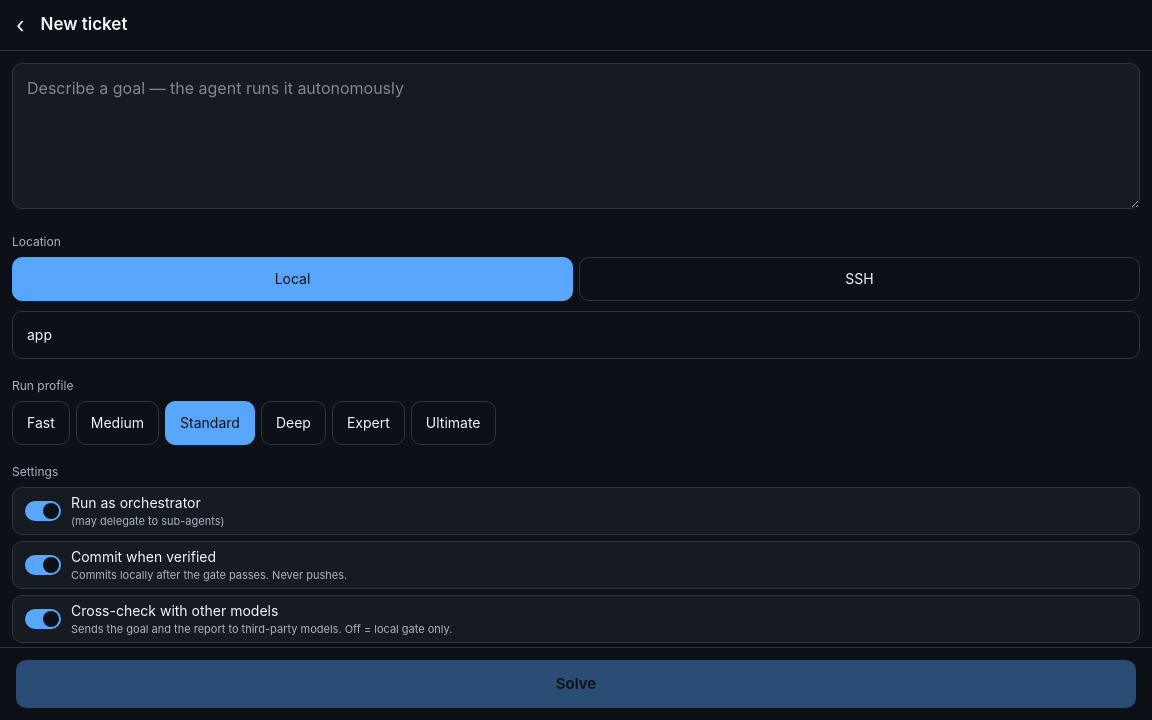
MobileTicketCompose › shows the server error instead of failing silently
The width and height of the screenshot is (1152, 720).
Type "작업" into the text box with placeholder "Describe a goal — the agent runs it autonomously" at point(576, 136), box top-left (12, 62), bottom-right (1140, 208)
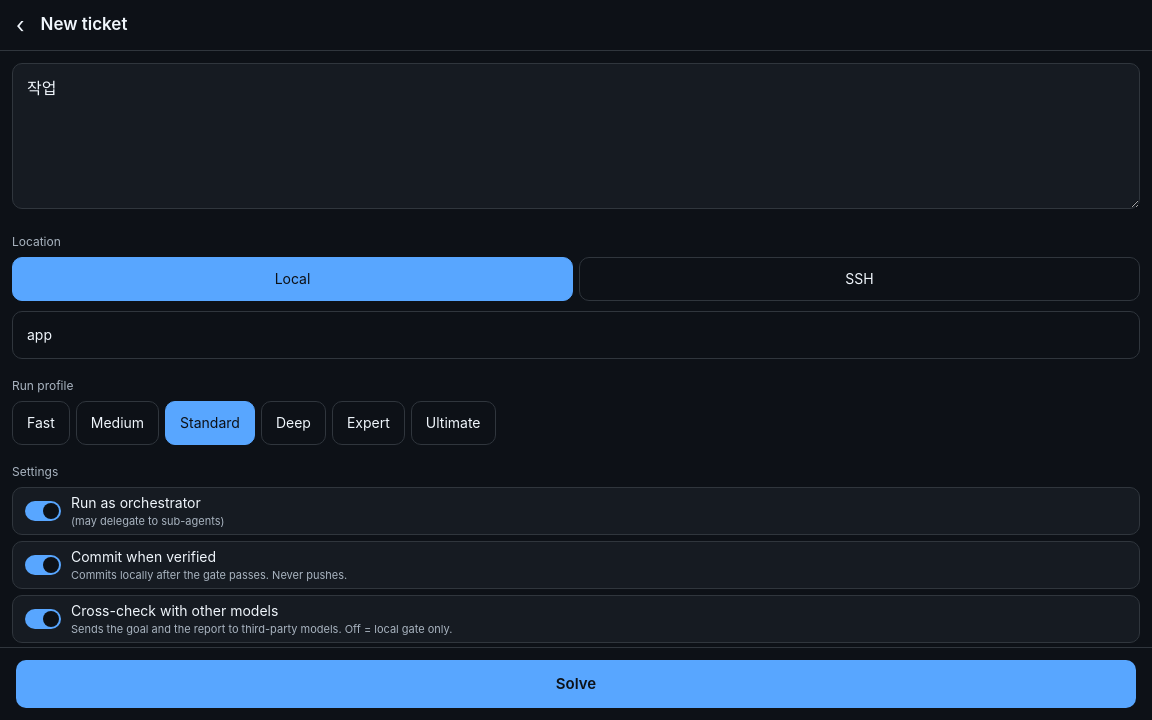
Click the button "Solve" at point(576, 684), box top-left (16, 660), bottom-right (1136, 708)
(page scrolled)
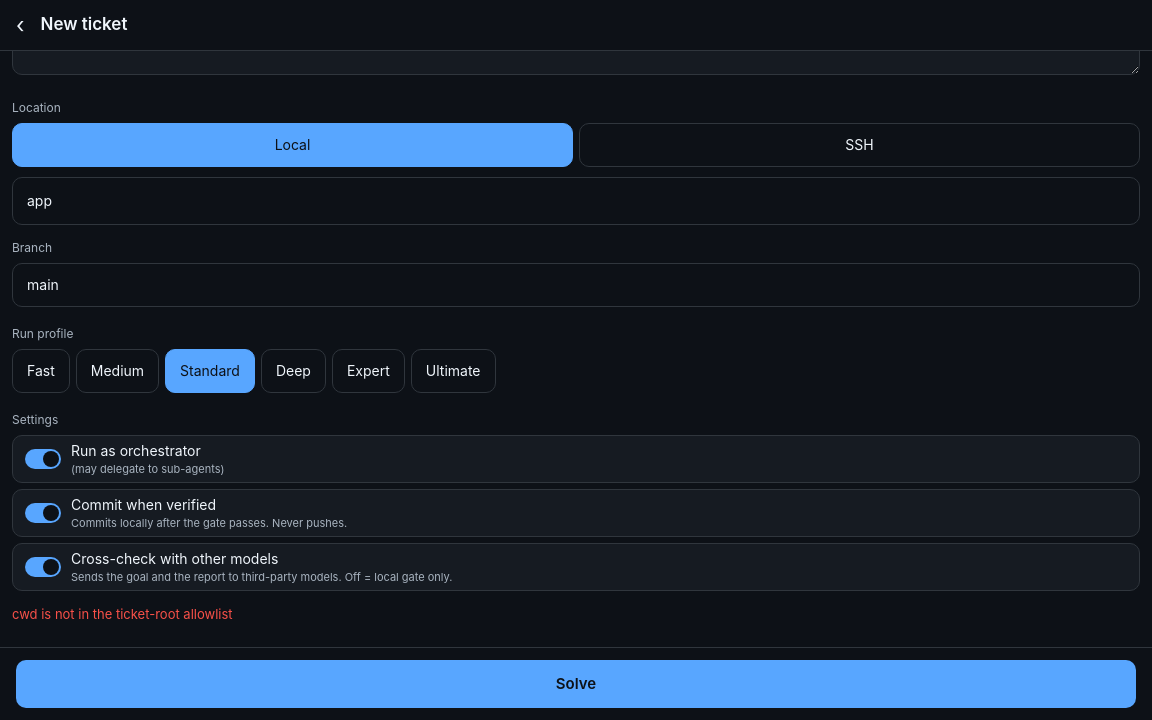
Check: the text "cwd is not in the ticket-root allowlist" is shown, box top-left (12, 606), bottom-right (232, 622)
